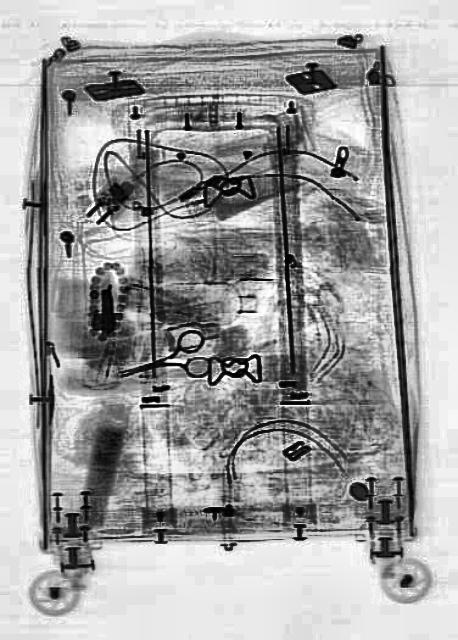Scissors: (116, 323, 212, 399)
